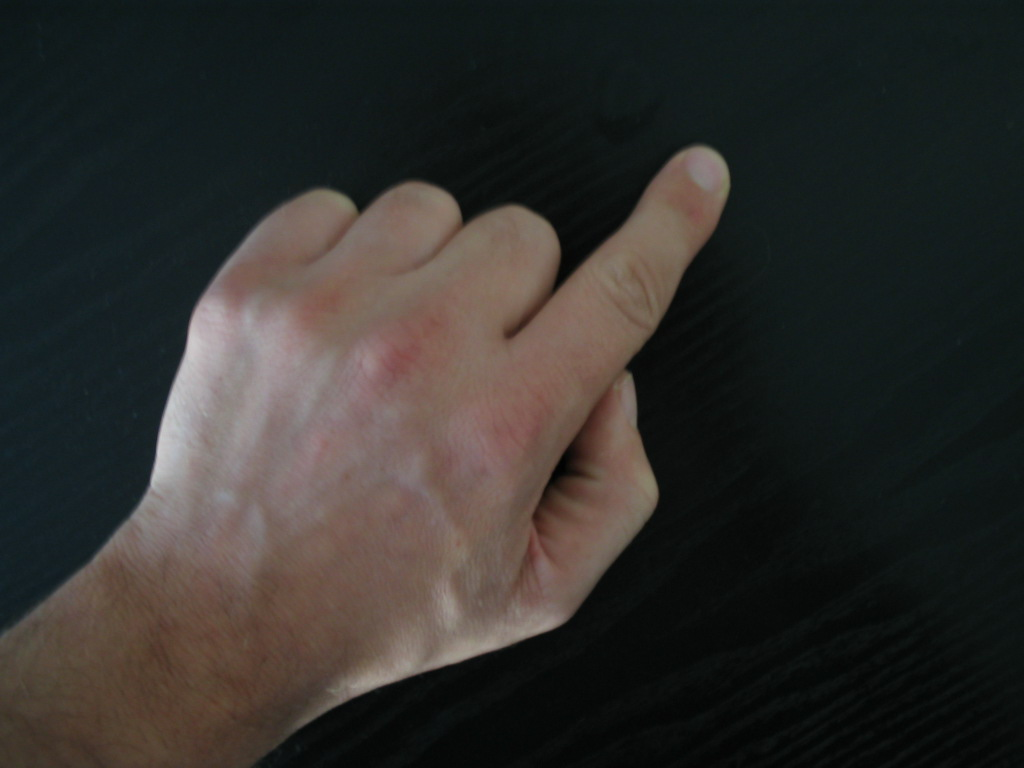move: (147, 141, 730, 661)
